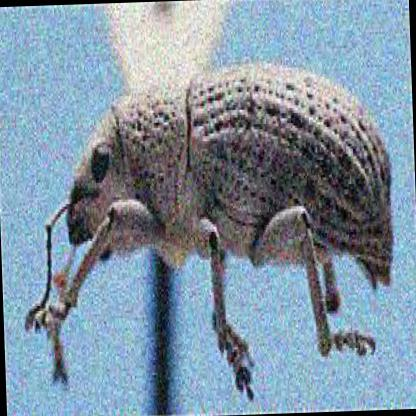ash weevil: (25, 63, 395, 388)
